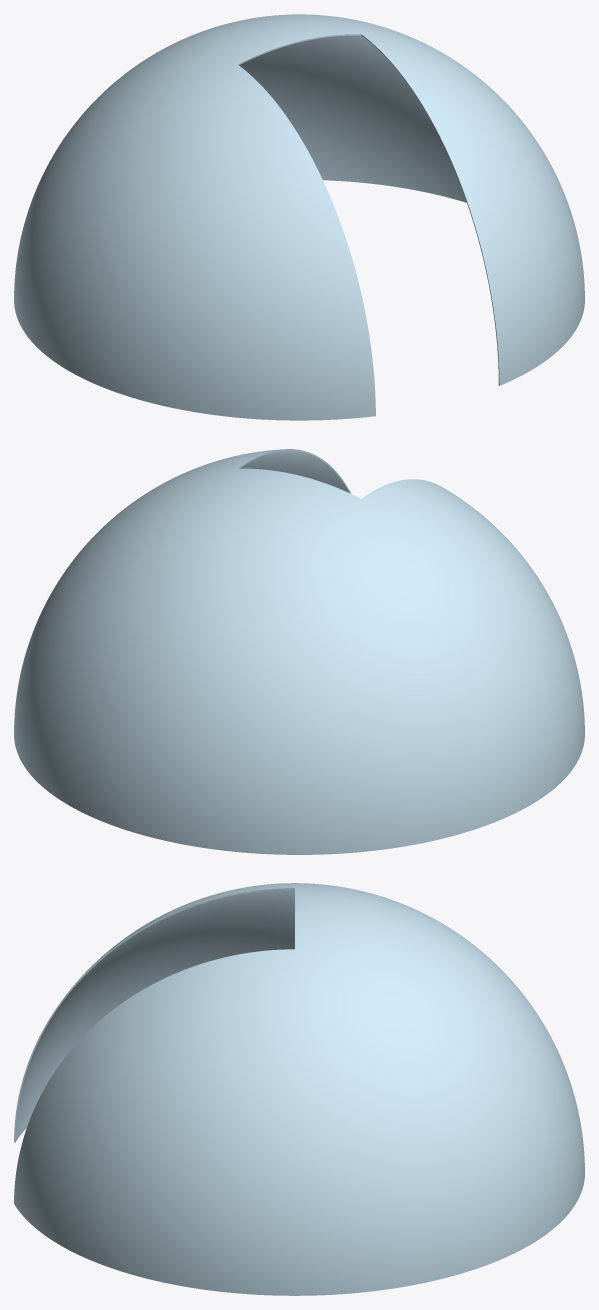
Rendered from Dome.gltf.
The picture shows the model from 3 angles, top to bottom: view 1: azimuth 30°, elevation 25°; view 2: azimuth 150°, elevation 25°; view 3: azimuth 270°, elevation 25°; orthographic projection.
Parts seen in each view (by area): view 1: Dome; view 2: Dome; view 3: Dome.
Boxes of the visible parts, <box> form: Dome: <box>14,14,584,420</box>; Dome: <box>14,449,584,854</box>; Dome: <box>14,883,584,1295</box>.
Bounding box in the file's own units: 2 × 1 × 1.97.
